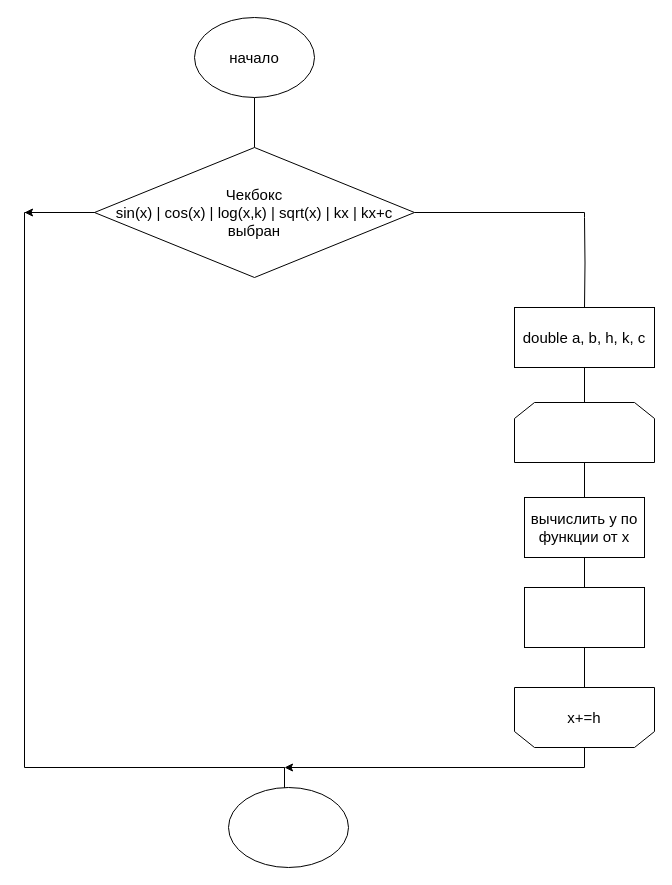
Image size: 672x885. Some labels were removed from this diagram. The centre of each missing label's shape, as x and y in pixels:
"добавить x и y в массив точек графика" goes at (x=584, y=617).
"конец" goes at (x=288, y=827).
"Цикл от x = a до b" goes at (x=584, y=432).
